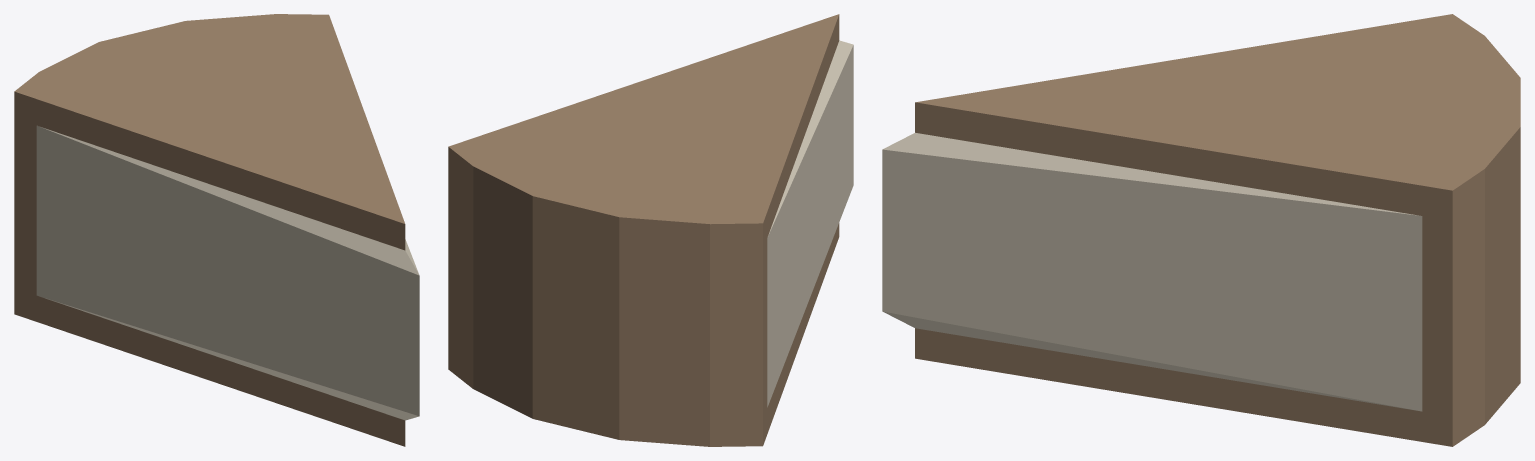
The model's file is cheese.fbx.
3 views of the same model, side by side, from view 1: azimuth 30°, elevation 25°; view 2: azimuth 150°, elevation 25°; view 3: azimuth 270°, elevation 25° (orthographic). The views are drawn at different scales.
Parts seen in each view (by area): view 1: cheese; view 2: cheese; view 3: cheese.
Boxes of the visible parts, box(x1,y1,x2,y2) form: cheese: box(14, 14, 419, 446); cheese: box(448, 14, 853, 446); cheese: box(882, 14, 1520, 446).
Size of the model in its own units: 22.79 by 34.8 by 15.41.
